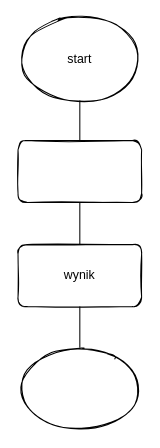
Image size: 160x448. Some labels were removed from this diagram. The box of each missing label's shape, as (x1, y1, x2, y2) in pixels:
a= coś b= coś a+b: (17, 140, 142, 202)
koniec: (17, 347, 142, 430)
